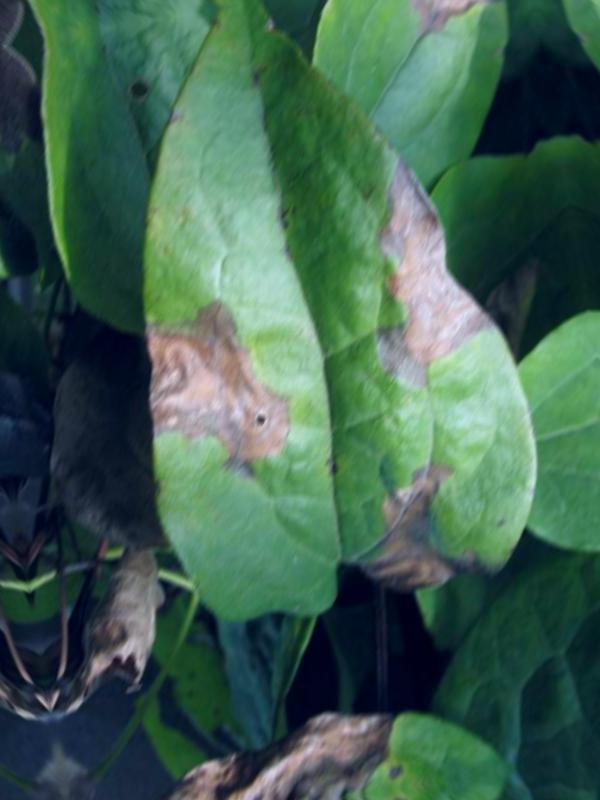Tomato leaf bacterial spot: (81, 0, 566, 651)
